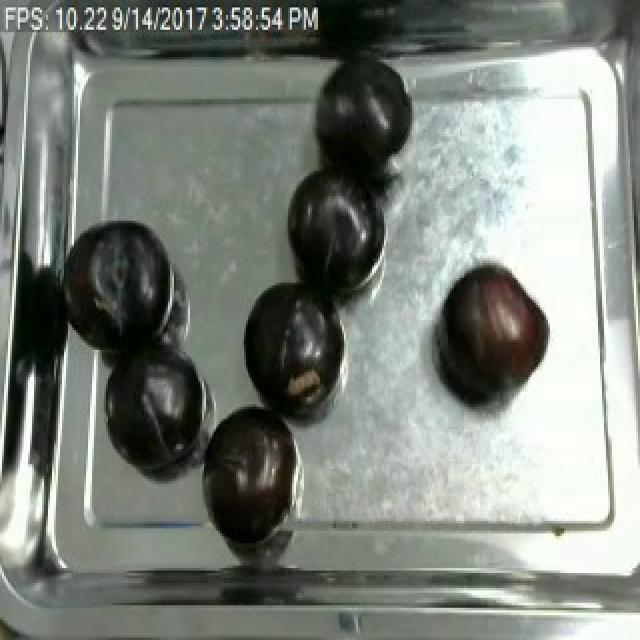Fruit: (432, 258, 554, 409), (98, 330, 210, 474), (282, 159, 384, 300), (198, 399, 300, 538), (80, 216, 176, 362), (238, 273, 340, 407), (310, 57, 416, 176)
